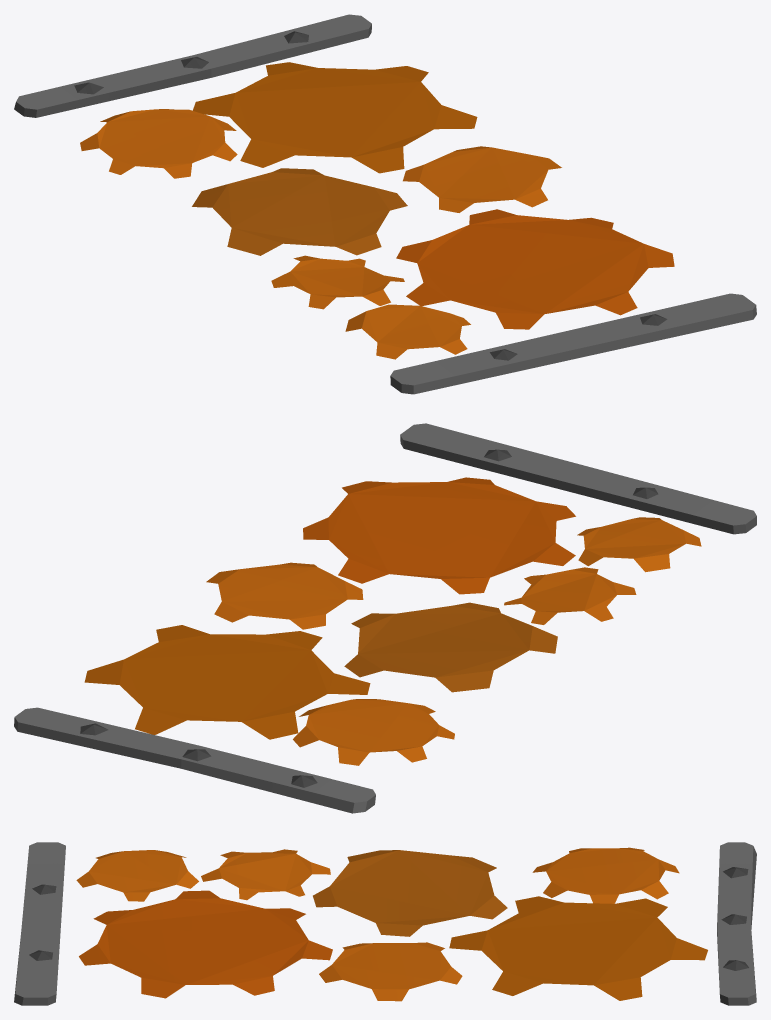
File: Road Straight Short.glb
3 renders of one model, top to bottom at view 1: azimuth 30°, elevation 25°; view 2: azimuth 150°, elevation 25°; view 3: azimuth 270°, elevation 25°, orthographic. The views are drawn at different scales.
Visible parts, largest first — view 1: RoadStraightShort; view 2: RoadStraightShort; view 3: RoadStraightShort.
Boxes of the visible parts, x1=… form: RoadStraightShort: x1=14, y1=14, x2=756, y2=394; RoadStraightShort: x1=14, y1=423, x2=756, y2=813; RoadStraightShort: x1=14, y1=842, x2=756, y2=1005.
Size of what is drawn, in the model's own units: 1 by 0.0402 by 2.02.
Materials: 1 (1 with a texture image).
